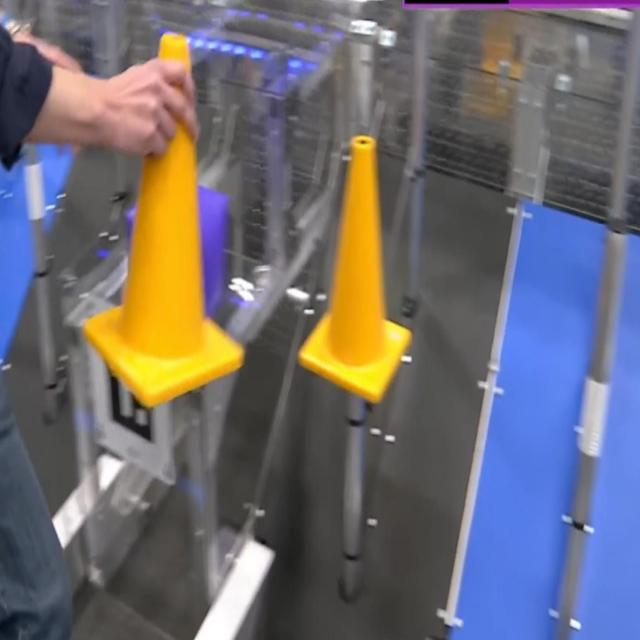frc_cone: (80, 32, 240, 404), (297, 136, 413, 404)
frc_cube: (201, 164, 228, 328)
